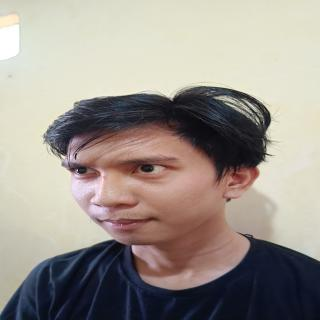Marah: (58, 138, 232, 247)
